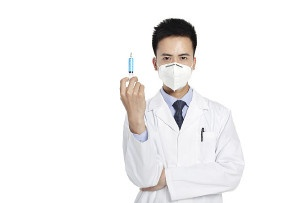Mask: (154, 52, 192, 90)
